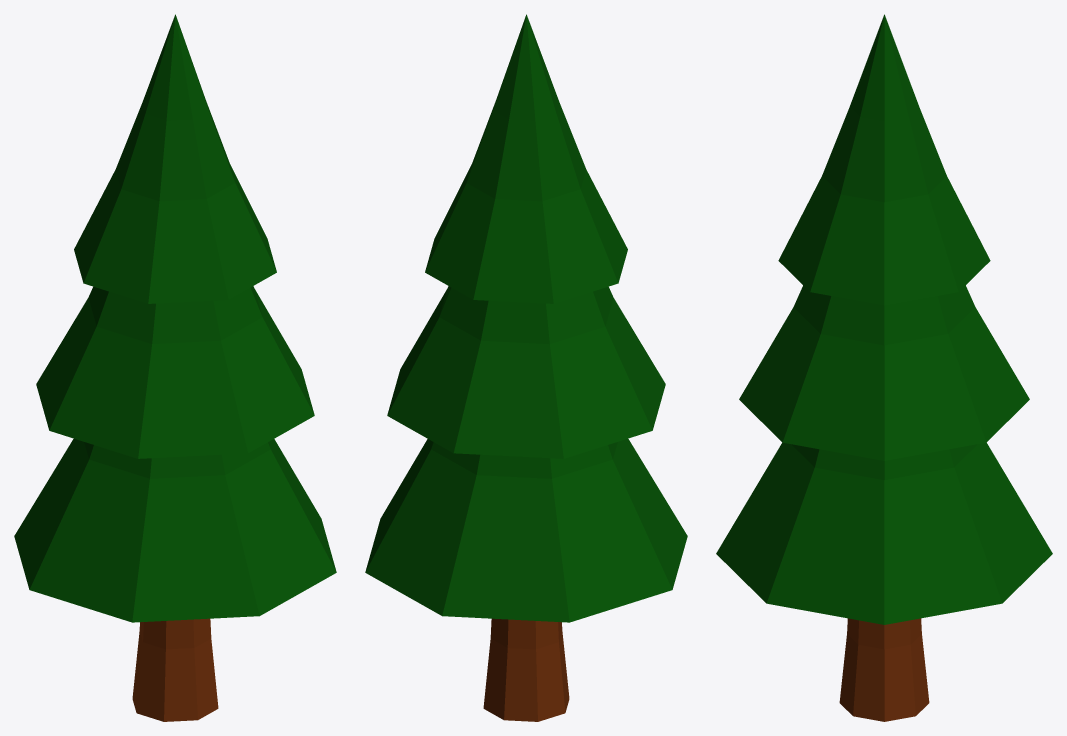
The model's file is PineTreeV0.fbx.
The picture shows the model from 3 angles, left to right: view 1: azimuth 30°, elevation 25°; view 2: azimuth 150°, elevation 25°; view 3: azimuth 270°, elevation 25°; orthographic projection.
Parts seen in each view (by area): view 1: Tree; view 2: Tree; view 3: Tree.
Boxes of the visible parts, x1,y1,x2,y2 form: Tree: (14,14,336,721); Tree: (365,14,687,721); Tree: (716,14,1052,721).
Size of the model in its own units: 1980 by 1980 by 4467.
